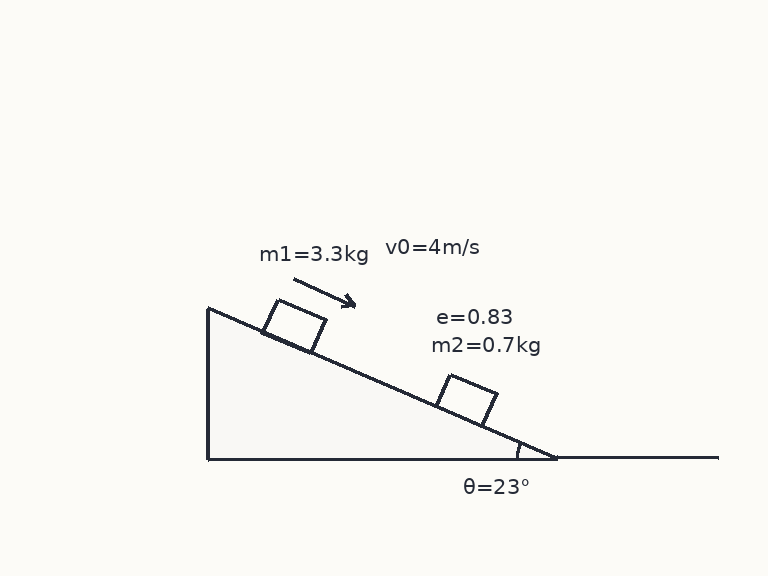block: (261, 297, 326, 355), (434, 372, 497, 428)
ramp: (205, 308, 559, 460)
